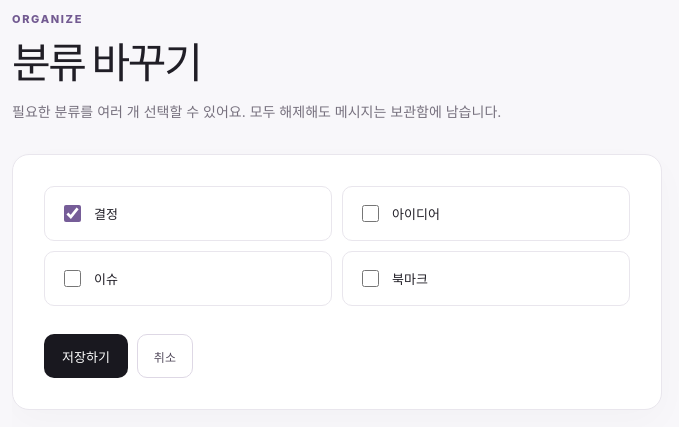
sends the complete chosen category set when saving
The width and height of the screenshot is (679, 427).
Step 1. Click the checkbox labelled "북마크" → [370, 279], box 362,270 -> 379,287
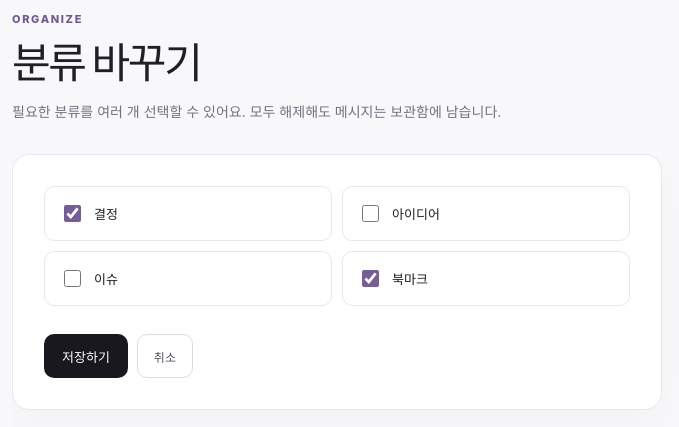
Step 2. Click the button "저장하기" → [86, 356], box 44,334 -> 128,378
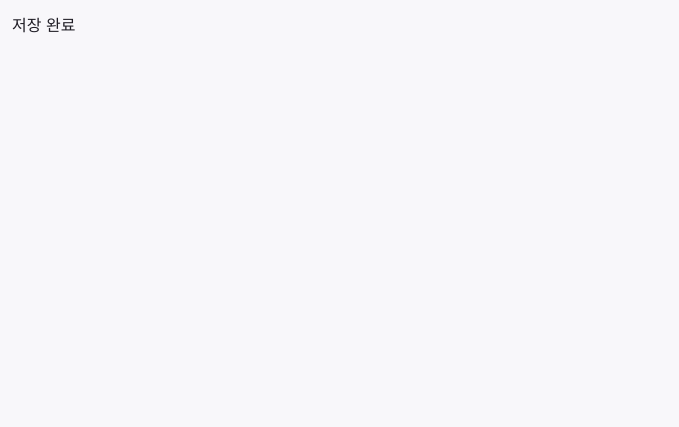
Check: the text "저장 완료" is shown, box 12,15 -> 75,35
